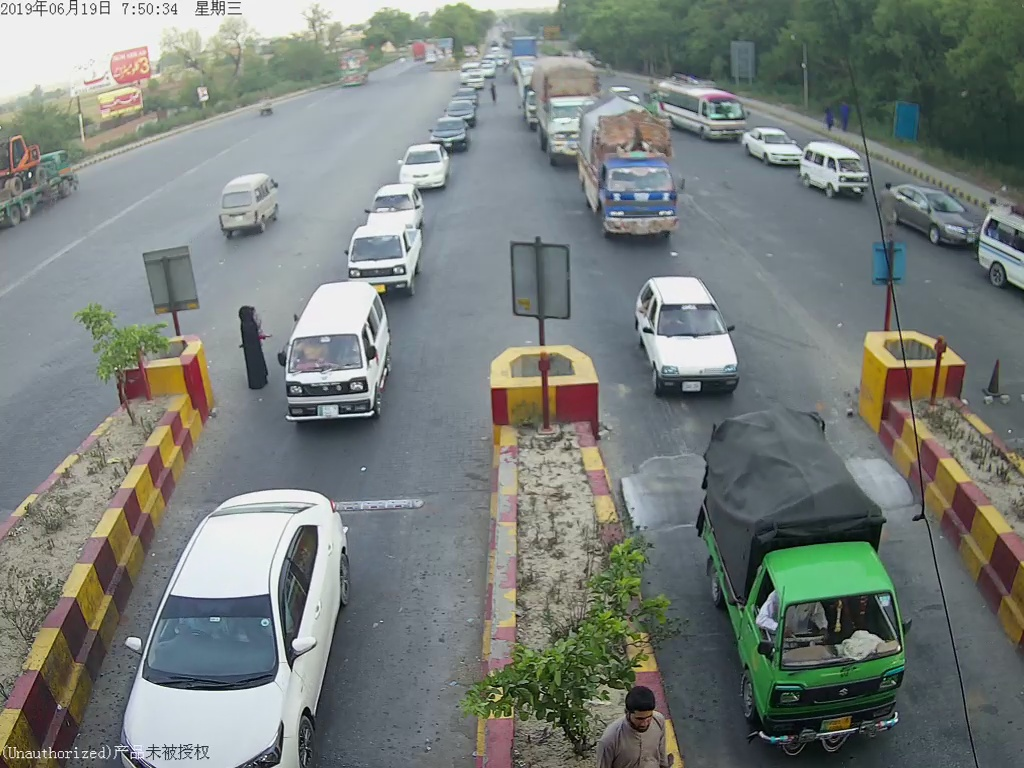Cat-1: (697, 399, 919, 747), (280, 280, 394, 430), (637, 274, 747, 397), (336, 213, 425, 294), (396, 138, 452, 187)
Cat-2: (573, 96, 686, 238)
Cat-4: (525, 47, 600, 165)
